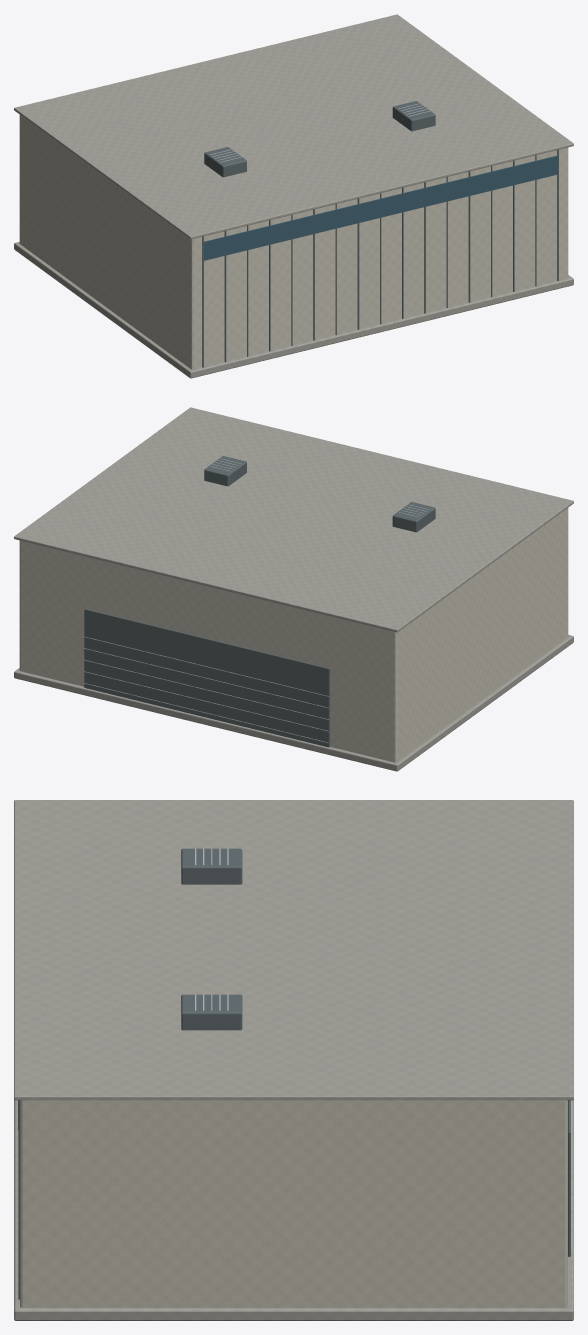
File: mc_warehouse.glb
3 views of the same model, one above another, from view 1: azimuth 30°, elevation 25°; view 2: azimuth 150°, elevation 25°; view 3: azimuth 270°, elevation 25° (orthographic). The views are drawn at different scales.
Visible parts, largest first — view 1: mc_warehouse__Geometry; view 2: mc_warehouse__Geometry; view 3: mc_warehouse__Geometry.
Part boxes in pixels (bbox=[...]): mc_warehouse__Geometry: bbox=[14, 14, 573, 378]; mc_warehouse__Geometry: bbox=[14, 407, 573, 771]; mc_warehouse__Geometry: bbox=[14, 800, 573, 1320].
Size of the model in its own units: 34.6 by 13.24 by 27.6.
Materials: 5 (2 with a texture image).
